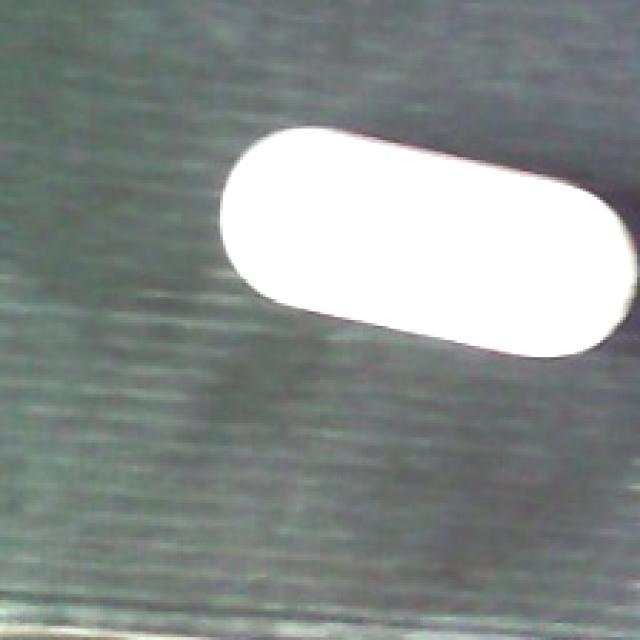no-defect: (214, 123, 640, 360)
